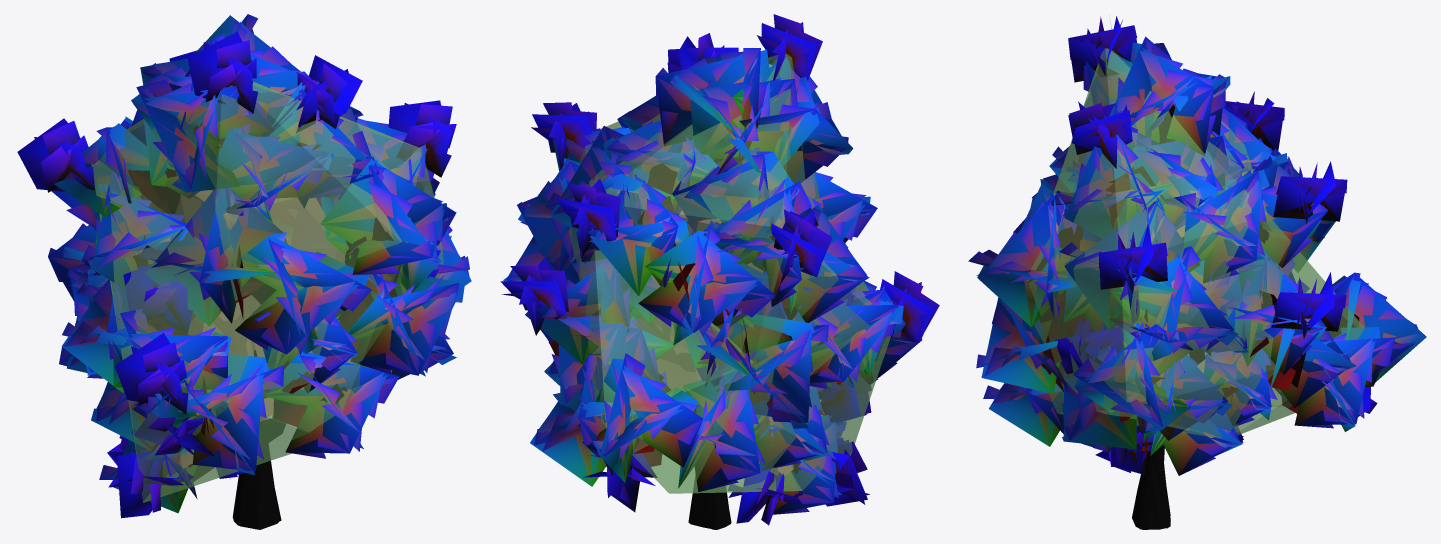
File: scraggly.dae
3 views of the same model, side by side, from view 1: azimuth 30°, elevation 25°; view 2: azimuth 150°, elevation 25°; view 3: azimuth 270°, elevation 25° (orthographic). The views are drawn at different scales.
Visible parts, largest first — view 1: scraggly_a1300, scraggly_a350, Colmesh-1; view 2: scraggly_a1300, scraggly_a350, Colmesh-1; view 3: scraggly_a1300, scraggly_a350, Colmesh-1.
Boxes of the visible parts, x1,y1,x2,y2 form: scraggly_a1300: (35, 14, 471, 529); scraggly_a350: (17, 14, 471, 525); Colmesh-1: (91, 81, 443, 529); scraggly_a1300: (501, 14, 938, 529); scraggly_a350: (500, 23, 939, 525); Colmesh-1: (569, 53, 890, 529); scraggly_a1300: (968, 16, 1426, 529); scraggly_a350: (970, 16, 1426, 529); Colmesh-1: (1027, 48, 1364, 528).
Size of the model in its own units: 7.75 by 8.34 by 9.55.
